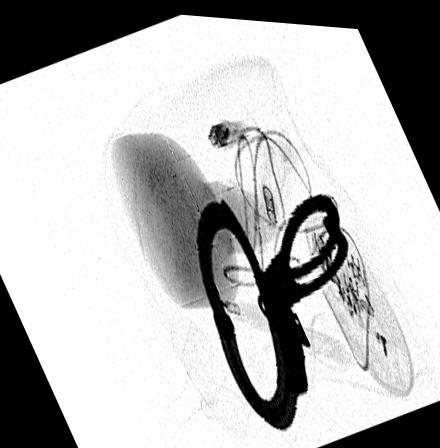HandCuffs: (192, 185, 353, 429)
